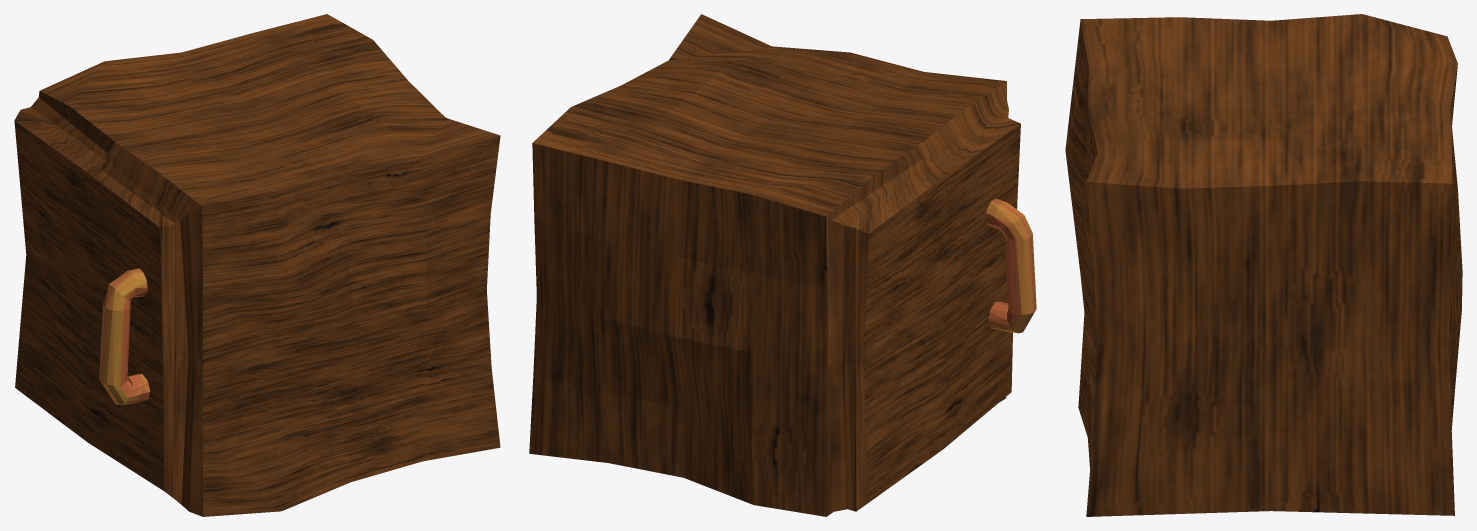
Rendered from Cabinet.glb.
3 views of the same model, side by side, from view 1: azimuth 30°, elevation 25°; view 2: azimuth 150°, elevation 25°; view 3: azimuth 270°, elevation 25° (orthographic). The views are drawn at different scales.
Parts seen in each view (by area): view 1: Cabinet, Cylinder; view 2: Cabinet, Cylinder; view 3: Cabinet.
Boxes of the visible parts, x1=… form: Cabinet: x1=14, y1=14, x2=500, y2=516; Cylinder: x1=99, y1=268, x2=150, y2=404; Cabinet: x1=529, y1=14, x2=1020, y2=516; Cylinder: x1=985, y1=199, x2=1036, y2=333; Cabinet: x1=1065, y1=14, x2=1462, y2=516.
Size of what is drawn, in the model's own units: 2.49 by 2.13 by 2.18.
2 materials, 2 textured.
